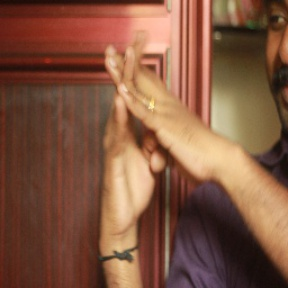W: (84, 24, 204, 183)
